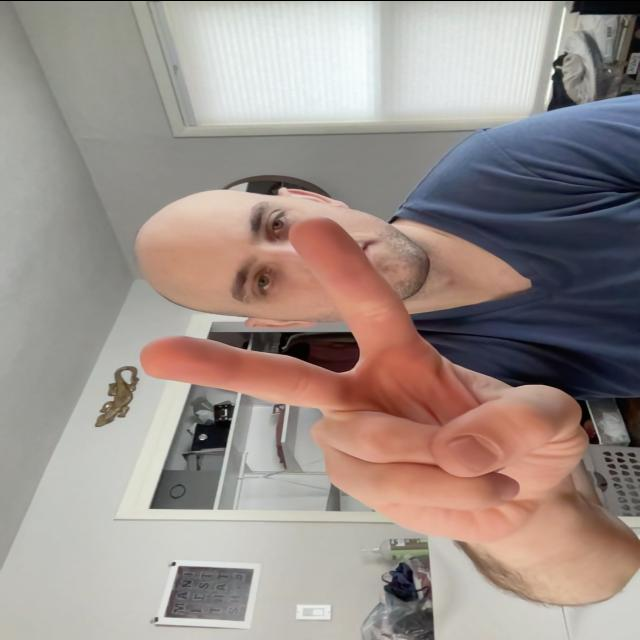Scissors: (128, 214, 594, 544)
